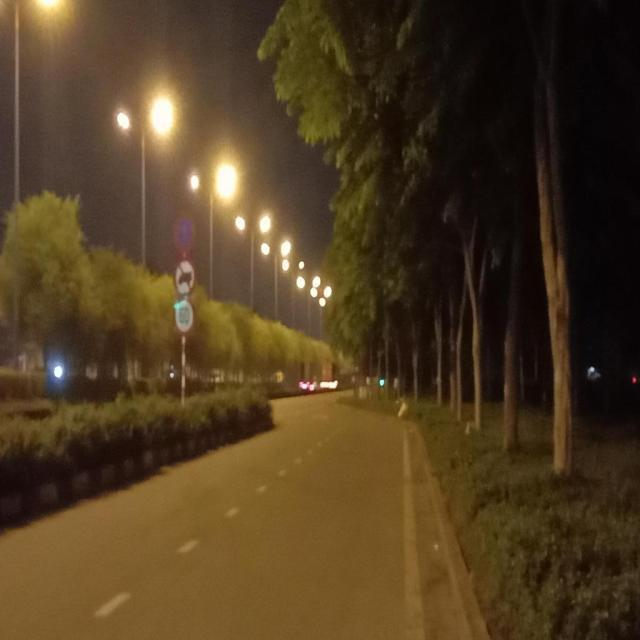106-cam-oto-tai: (174, 257, 196, 299)
127-toc-do-toi-da-60: (173, 298, 195, 334)
